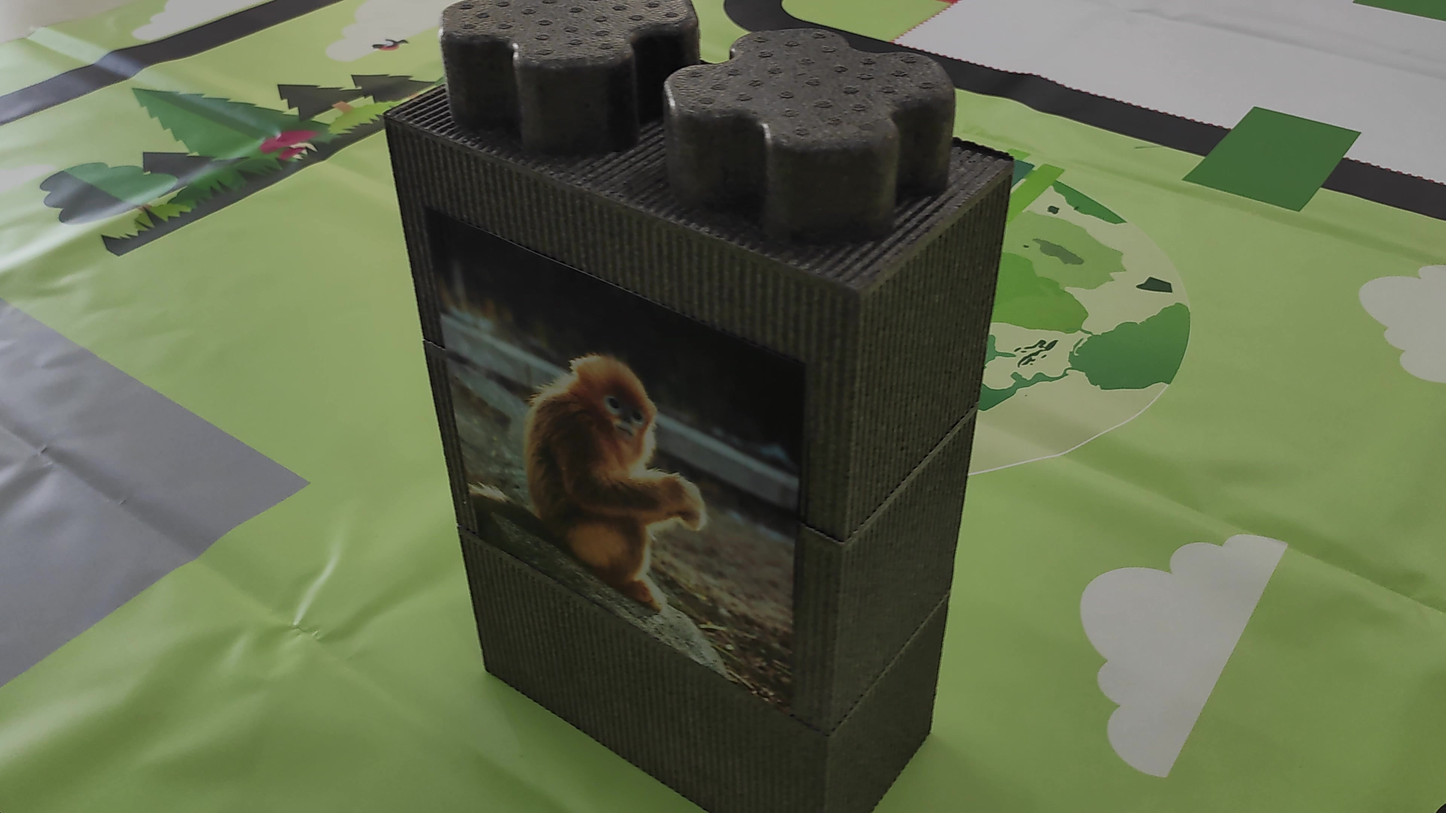monkey: (468, 343, 743, 600)
